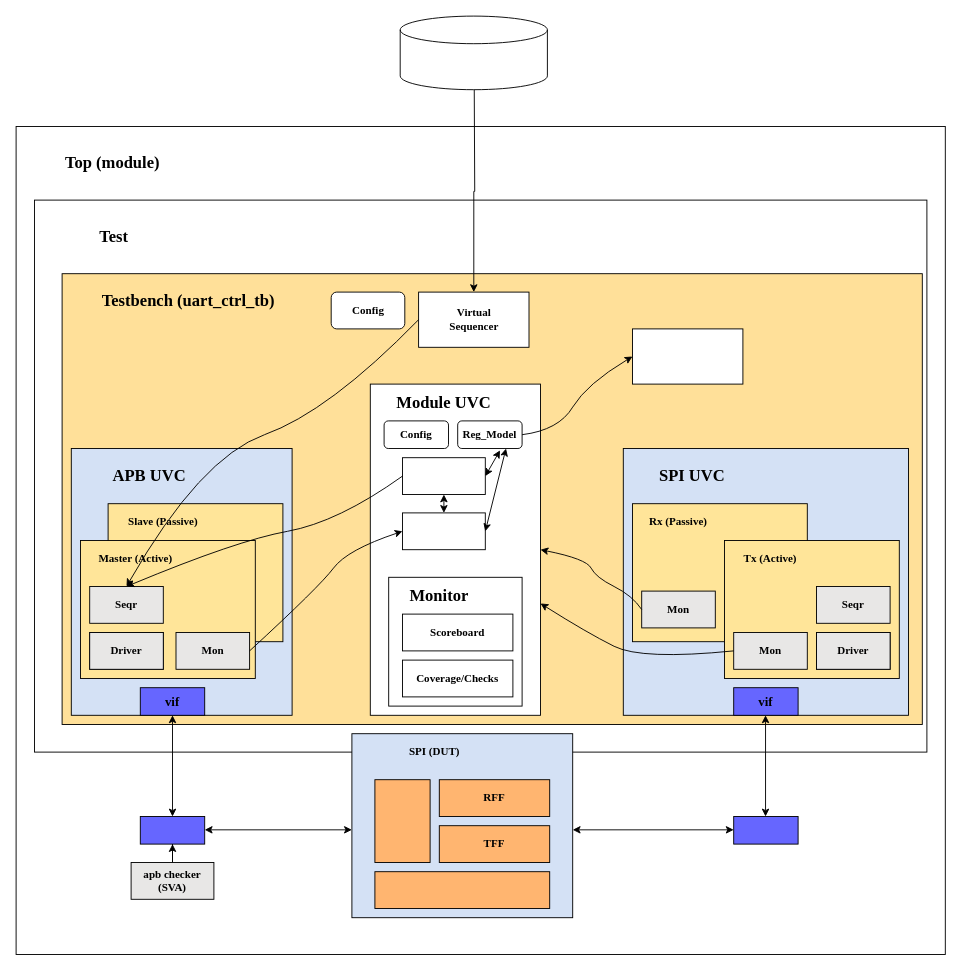
Image size: 961x971. Some labels were removed from this diagram. Each missing label, with the centre of its shape:
Adapter: [443,475]
APB I/F: [402,820]
apb_vif: [172,830]
Predictor: [443,531]
Register and Control: [462,889]
Register Model: [687,356]
sequence library: [473,52]
spi_vif: [765,830]
